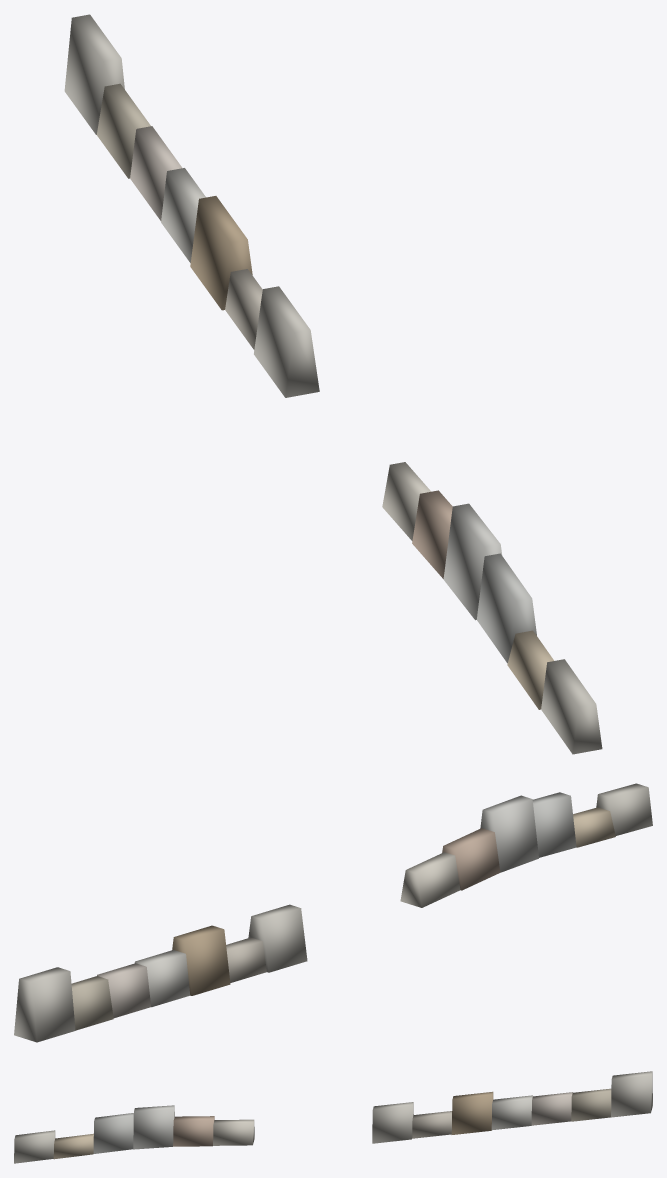
File: farm_5_22_collision.glb
3 views of the same model, one above another, from view 1: azimuth 30°, elevation 25°; view 2: azimuth 150°, elevation 25°; view 3: azimuth 270°, elevation 25° (orthographic). The views are drawn at different scales.
Parts seen in each view (by area): view 1: geometry_0; view 2: geometry_0; view 3: geometry_0.
Boxes of the visible parts, <box> form: geometry_0: <box>64,14,602,754</box>; geometry_0: <box>14,783,652,1042</box>; geometry_0: <box>14,1071,652,1163</box>.
Bounding box in the file's own units: 3.55 × 5.05 × 24.59.
